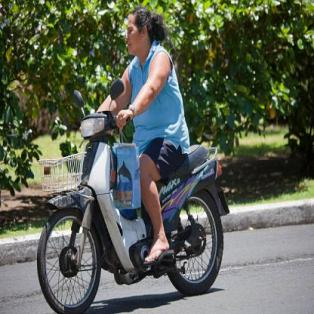Motocicleta: (32, 78, 227, 312)
